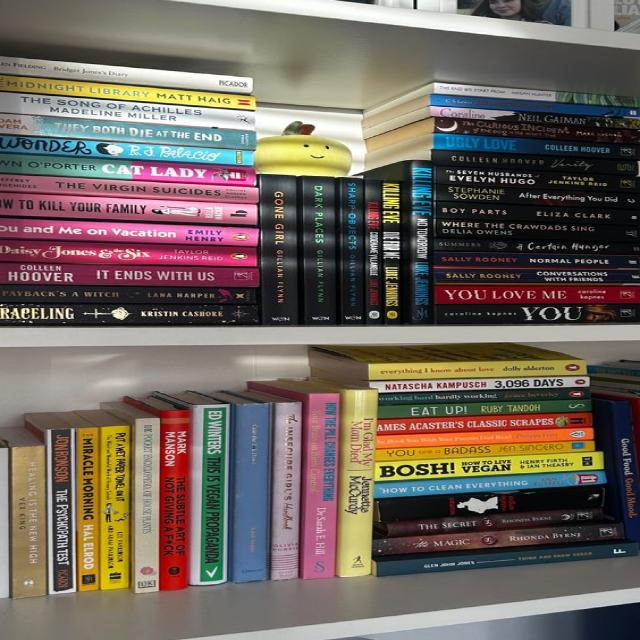book: (0, 92, 254, 131), (0, 57, 252, 94), (0, 113, 254, 149), (374, 542, 639, 576), (0, 75, 255, 110), (373, 524, 622, 558), (0, 153, 254, 186), (0, 193, 256, 225), (0, 135, 253, 167), (379, 486, 604, 521), (2, 174, 258, 204), (0, 218, 256, 247), (0, 240, 256, 267), (376, 508, 613, 537), (375, 452, 602, 481), (374, 471, 606, 499), (231, 404, 267, 580), (341, 390, 374, 577), (0, 263, 258, 286), (193, 406, 226, 584), (259, 175, 297, 324), (433, 165, 639, 192), (2, 303, 259, 324), (298, 178, 334, 324), (306, 392, 334, 578), (433, 118, 640, 143), (434, 134, 640, 159), (161, 411, 190, 588), (2, 285, 256, 305), (13, 447, 47, 596), (433, 201, 639, 225), (433, 219, 639, 243), (431, 150, 635, 174), (435, 185, 639, 209), (435, 83, 637, 107), (368, 358, 586, 380), (273, 403, 300, 579), (432, 95, 637, 118), (431, 107, 640, 129), (48, 428, 76, 592), (134, 417, 160, 593), (377, 413, 592, 434), (101, 426, 128, 589), (376, 441, 595, 460), (375, 429, 592, 448), (336, 179, 364, 324), (410, 160, 433, 326), (433, 267, 640, 285), (433, 285, 640, 303), (433, 304, 640, 322), (377, 401, 592, 418), (378, 388, 589, 405), (370, 376, 590, 392), (432, 238, 639, 254), (76, 428, 96, 590), (433, 253, 640, 268), (382, 182, 402, 326), (363, 179, 381, 325), (0, 448, 9, 598)
